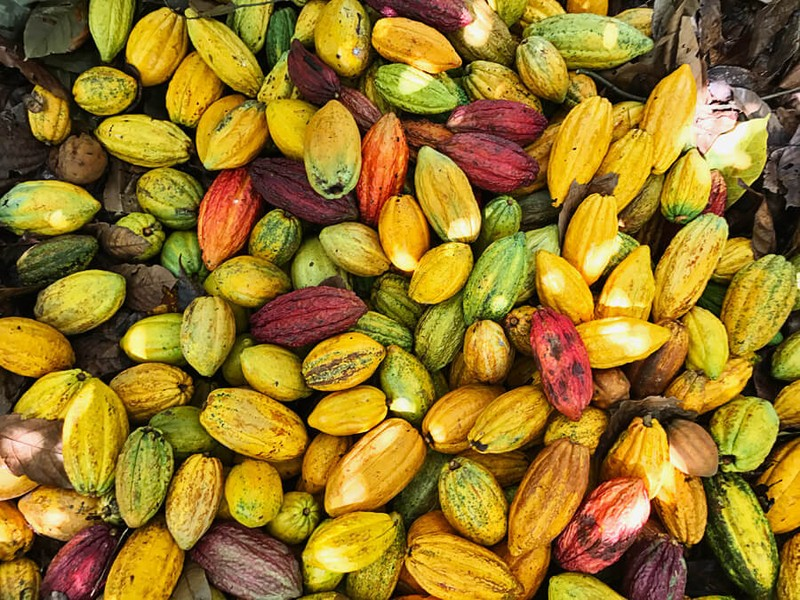Cacaopod: (64, 376, 126, 496), (250, 283, 369, 344), (529, 308, 593, 421)
